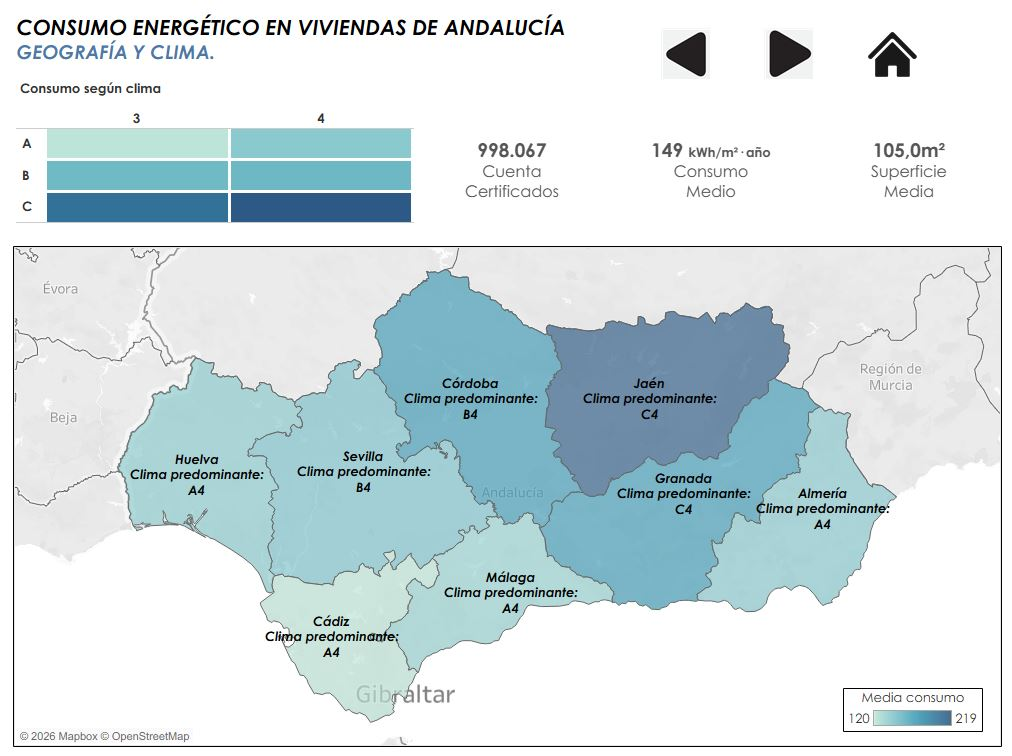

What the dashboard file says about the page in this screenshot:
{"tool":"tableau","page":{"name":"Geografía y clima","canvas":[1024,768],"ordinal":1},"visuals":[{"type":"text","box":[20,11,873,68]},{"type":"dashboard-object","box":[640,30,104,60]},{"type":"dashboard-object","box":[744,30,103,60]},{"type":"dashboard-object","box":[847,30,103,60]},{"type":"worksheet","title":"Consumo según clima","mark":"Automatic","rows":["zona_clima_invierno"],"cols":["zona_clima_verano"],"box":[21,82,400,148]},{"type":"worksheet","title":"KPI Cuenta certificados","mark":"Automatic","box":[418,124,199,106]},{"type":"worksheet","title":"KPI consumo medio","mark":"Automatic","box":[617,124,199,106]},{"type":"worksheet","title":"KPI superficie media","mark":"Automatic","box":[816,124,198,106]},{"type":"worksheet","title":"Mapa","mark":"Automatic","box":[19,252,989,501]},{"type":"legend","title":"Mapa","param":"[federated.1xgbplu0u0l5i61913jd10sdry8a].[usr:Calculation_0692752052609024:qk]","box":[849,694,140,44]}]}

Visuals, with their boxes in screenshot pixels (x1, y1, x2, y2), scaled from the page's 1024x768 canvas onto the 1012x756 screenshot:
text: (20,11,883,78)
dashboard-object: (632,30,735,89)
dashboard-object: (735,30,837,89)
dashboard-object: (837,30,939,89)
"Consumo según clima" worksheet: (21,81,416,226)
"KPI Cuenta certificados" worksheet: (413,122,610,226)
"KPI consumo medio" worksheet: (610,122,806,226)
"KPI superficie media" worksheet: (806,122,1002,226)
"Mapa" worksheet: (19,248,996,741)
"Mapa" legend: (839,683,977,726)
